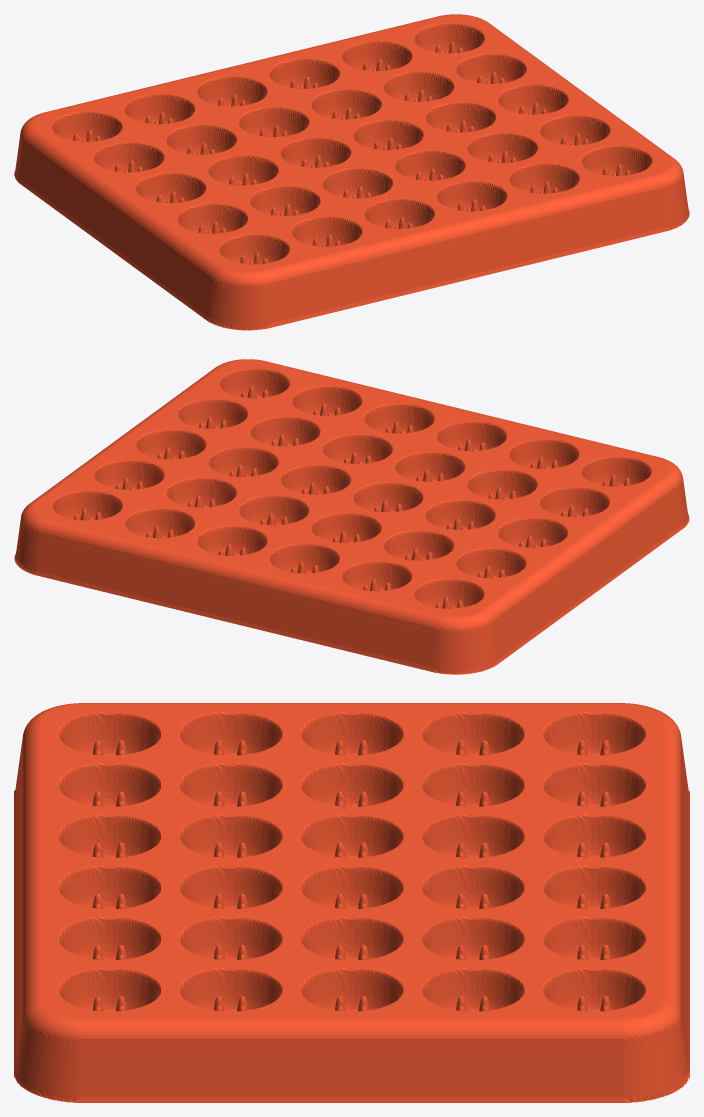
Rendered from mold.glb.
3 renders of one model, top to bottom at view 1: azimuth 30°, elevation 25°; view 2: azimuth 150°, elevation 25°; view 3: azimuth 270°, elevation 25°, orthographic. The views are drawn at different scales.
Visible parts, largest first — view 1: geometry_0; view 2: geometry_0; view 3: geometry_0.
Boxes of the visible parts, left/top/right/bottom form: geometry_0: left=14, top=14, right=689, bottom=330; geometry_0: left=14, top=359, right=689, bottom=674; geometry_0: left=14, top=703, right=689, bottom=1102.
Size of the model in its own units: 0.104 by 0.0105 by 0.0882.
